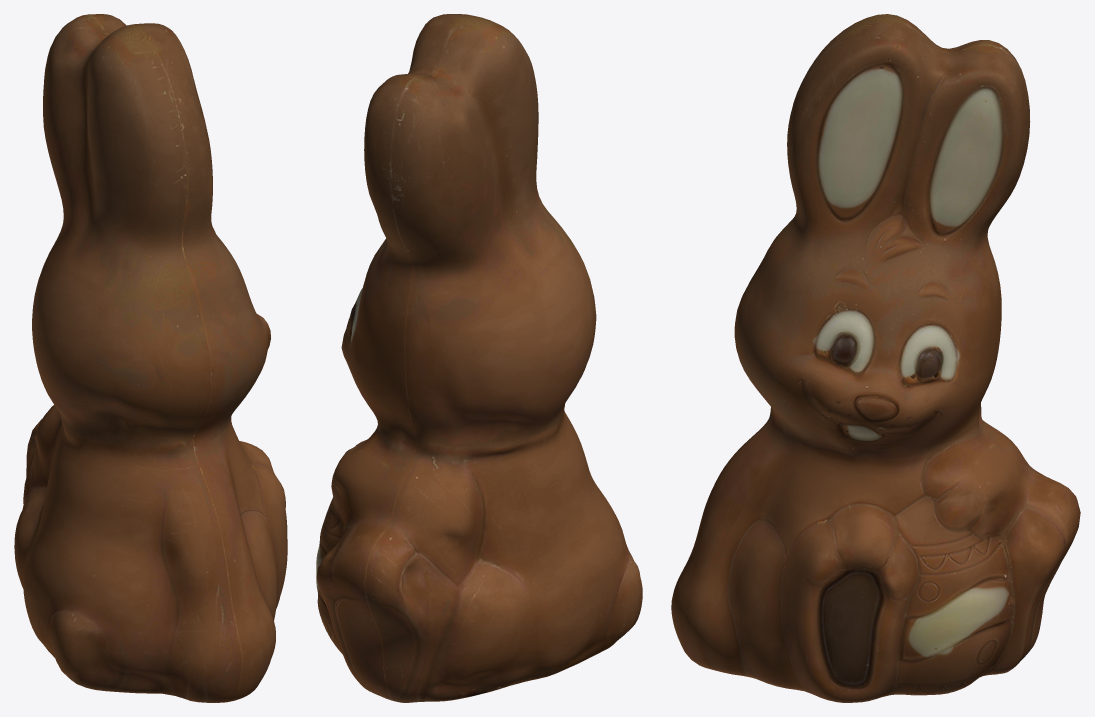
Rendered from durak.fbx.
3 views of the same model, side by side, from view 1: azimuth 30°, elevation 25°; view 2: azimuth 150°, elevation 25°; view 3: azimuth 270°, elevation 25° (orthographic). The views are drawn at different scales.
Visible parts, largest first — view 1: durak; view 2: durak; view 3: durak.
Boxes of the visible parts, bbox=[...] form: durak: bbox=[14, 14, 287, 702]; durak: bbox=[316, 14, 642, 702]; durak: bbox=[671, 14, 1080, 702].
Bounding box in the file's own units: 64.27 × 155 × 90.23.
